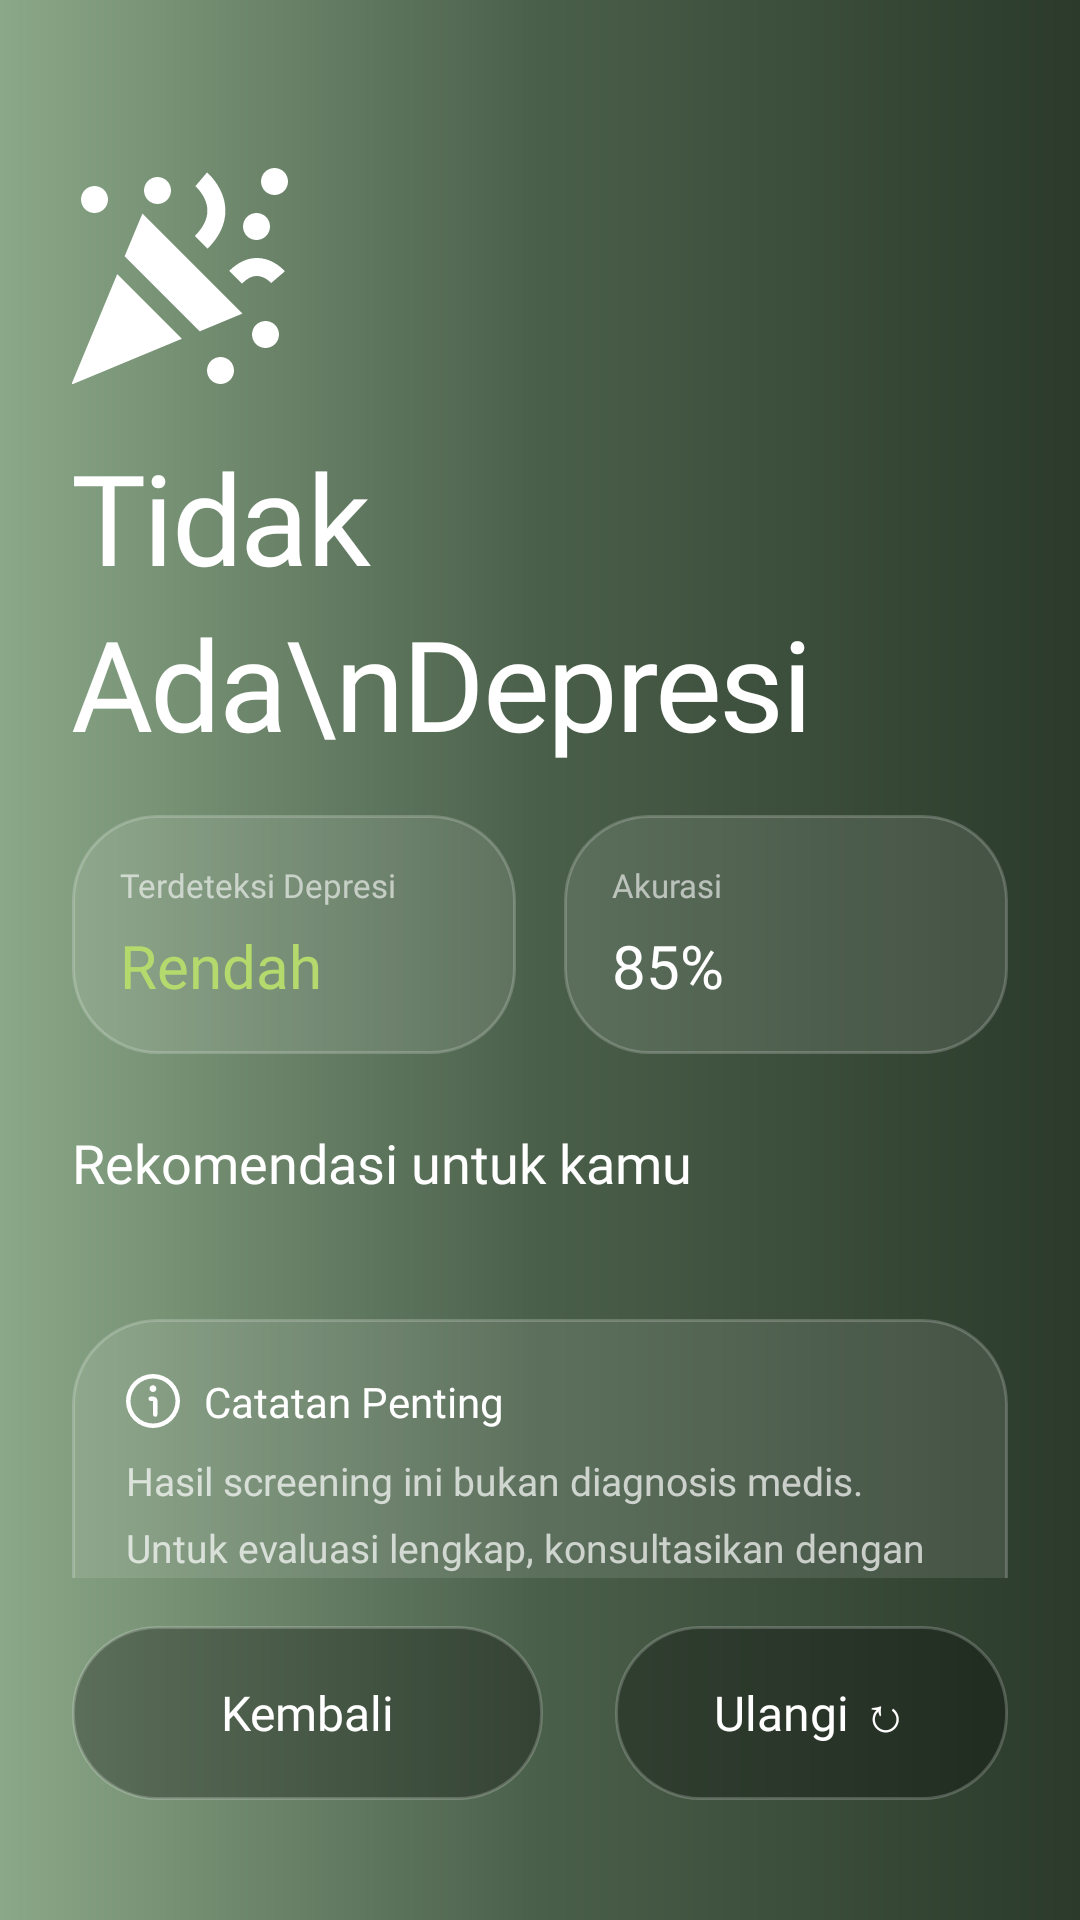

Named icons in this screenshot (1080px×1920px) and their bounding boxes, (x1, y1, x2, y2):
info circle: (126, 1374, 180, 1428)
success sparkle: (72, 168, 288, 384)
